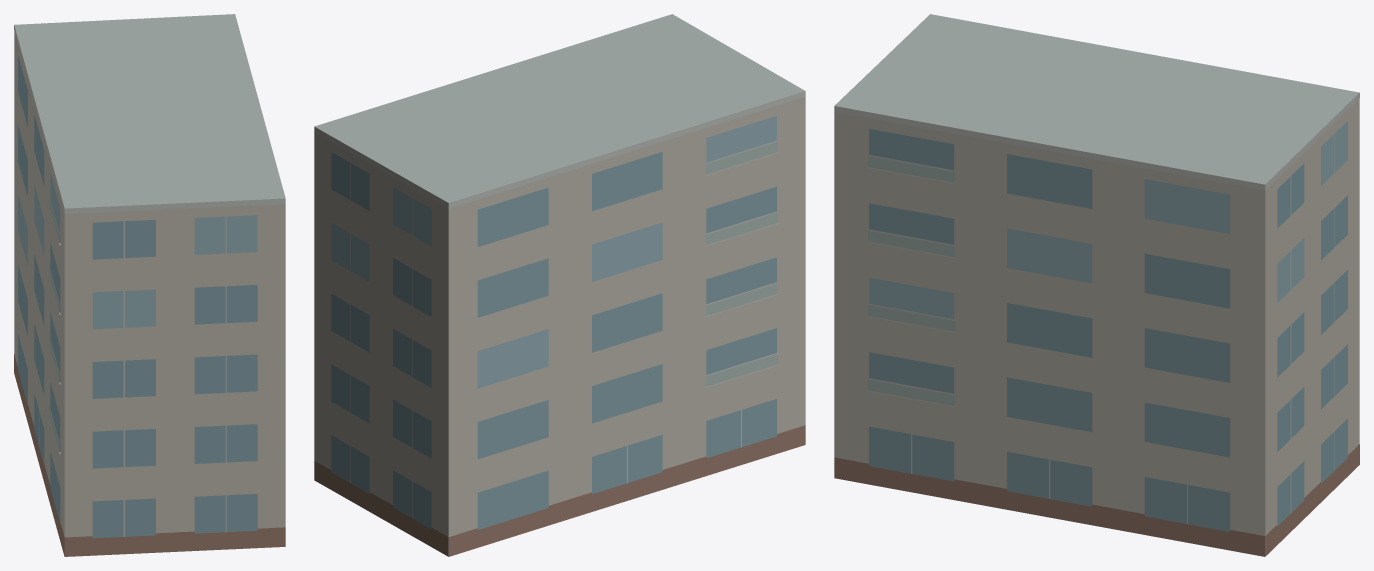
Rendered from survey-upis-32531784.glb.
3 views of the same model, side by side, from view 1: azimuth 30°, elevation 25°; view 2: azimuth 150°, elevation 25°; view 3: azimuth 270°, elevation 25° (orthographic). The views are drawn at different scales.
Parts seen in each view (by area): view 1: survey-upis-32531784.tmp; view 2: survey-upis-32531784.tmp; view 3: survey-upis-32531784.tmp.
Boxes of the visible parts, x1,y1,x2,y2 form: survey-upis-32531784.tmp: [14, 14, 285, 556]; survey-upis-32531784.tmp: [314, 14, 805, 556]; survey-upis-32531784.tmp: [834, 14, 1359, 556].
Bounding box in the file's own units: 15.15 × 15.4 × 19.71.
